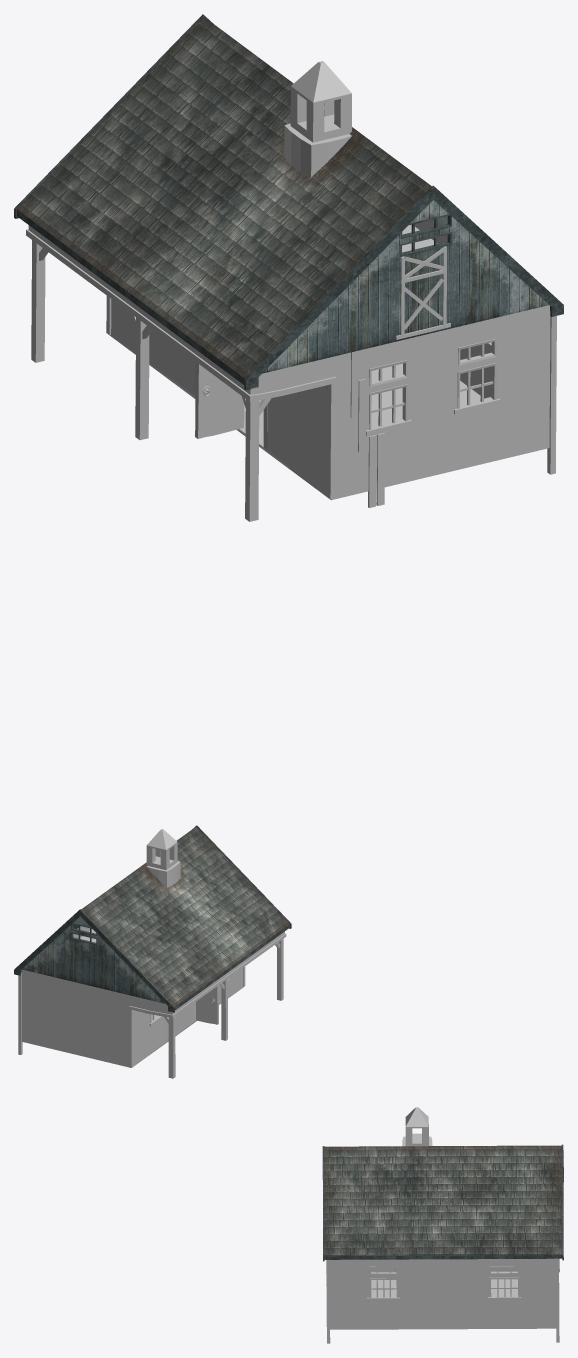
Rendered from house15.fbx.
3 views of the same model, one above another, from view 1: azimuth 30°, elevation 25°; view 2: azimuth 150°, elevation 25°; view 3: azimuth 270°, elevation 25° (orthographic). The views are drawn at different scales.
Parts seen in each view (by area): view 1: house_LOD0; view 2: house_LOD0; view 3: house_LOD0.
Boxes of the visible parts, left/top/right/bottom form: house_LOD0: left=14, top=14, right=563, bottom=521; house_LOD0: left=14, top=825, right=291, bottom=1078; house_LOD0: left=322, top=1107, right=563, bottom=1343.
Size of what is drawn, in the model's own units: 2470 by 1616 by 4054.
